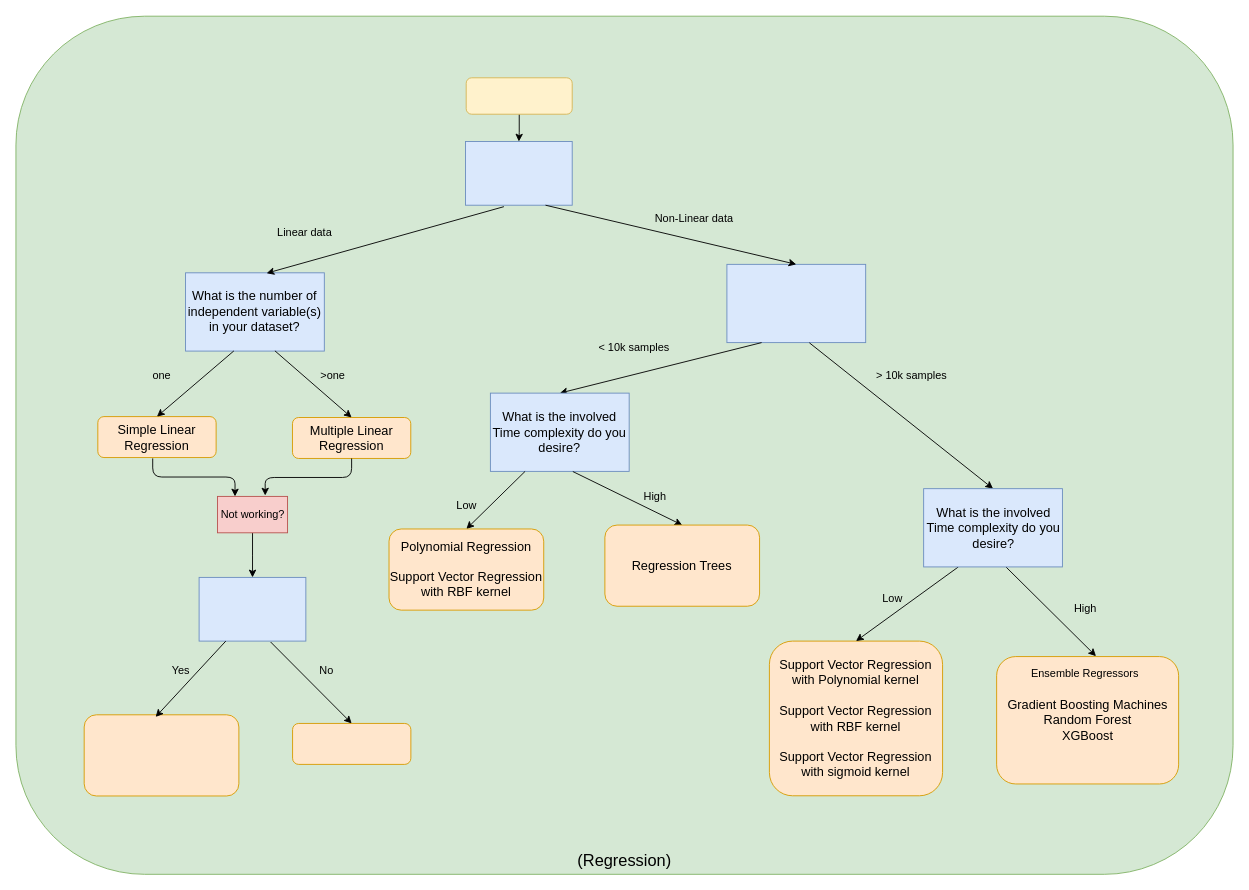
The diagram is 1249 pixels wide and 890 high, and some of its shapes have lost their labels. Each missing label, with the centre of its shape:
Lasso Regressor Ridge Regressor Linear Kernel SVR ElasticNet Regressor: (161,755)
Number of Samples <100K?: (252,608)
Regression: (518,95)
SGD Regressor: (351,743)
What is the size of your dataset?: (796,303)
What kind of dataset do you possess?: (518,173)
